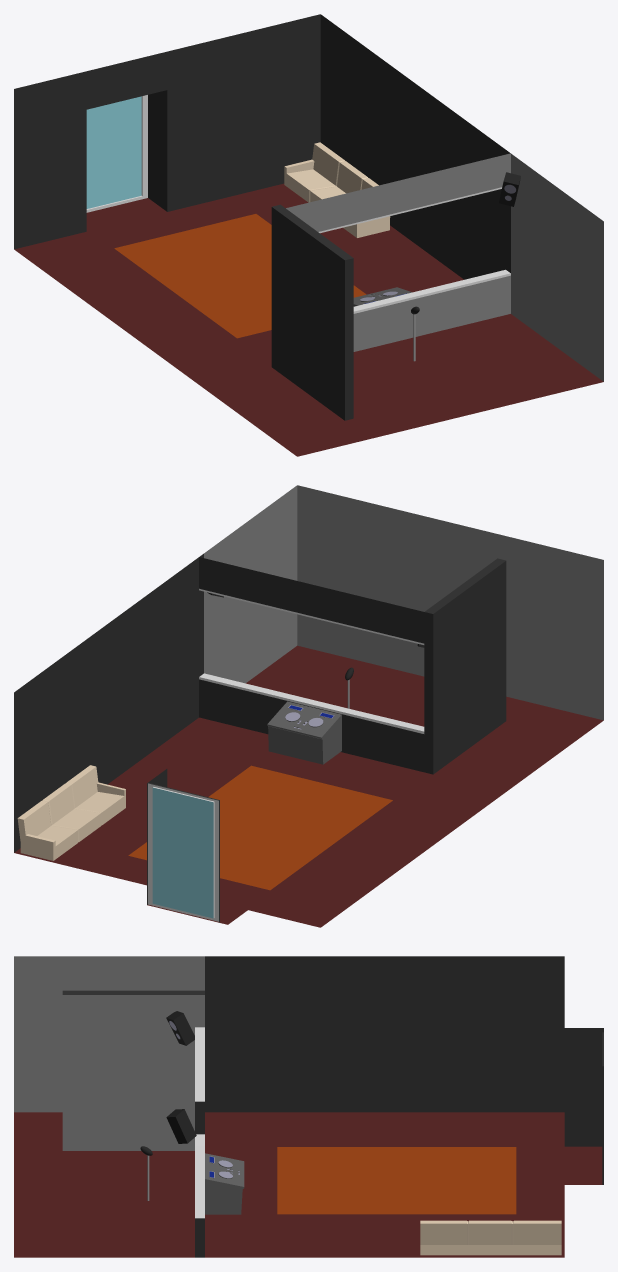
Rendered from studio.glb.
3 views of the same model, one above another, from view 1: azimuth 30°, elevation 25°; view 2: azimuth 150°, elevation 25°; view 3: azimuth 270°, elevation 25° (orthographic). The views are drawn at different scales.
Parts seen in each view (by area): view 1: studio, rug, sofa; view 2: studio, rug, sofa, table; view 3: studio, rug, sofa, table, speaker.
Part boxes in pixels (x1,y1,x2,y2): studio: (14,14,603,456); rug: (114,214,366,338); sofa: (284,142,390,237); studio: (14,485,603,927); rug: (128,765,392,890); sofa: (17,765,125,860); table: (267,701,341,764); studio: (14,956,603,1257); rug: (277,1147,516,1214); sofa: (420,1220,561,1255); table: (205,1153,244,1214); speaker: (166,1011,196,1143).
Bounding box in the file's own units: 101 × 50.63 × 171.
